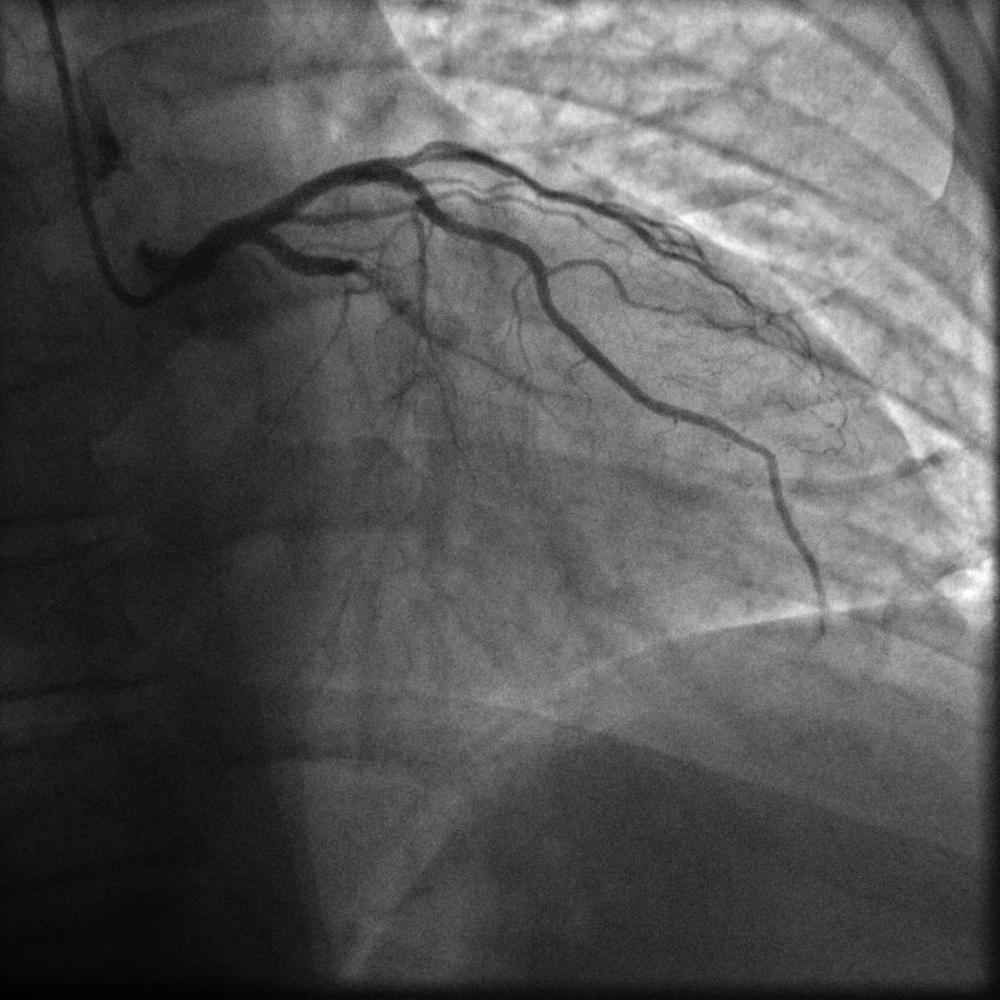Stenosis: (345, 258, 400, 311)
